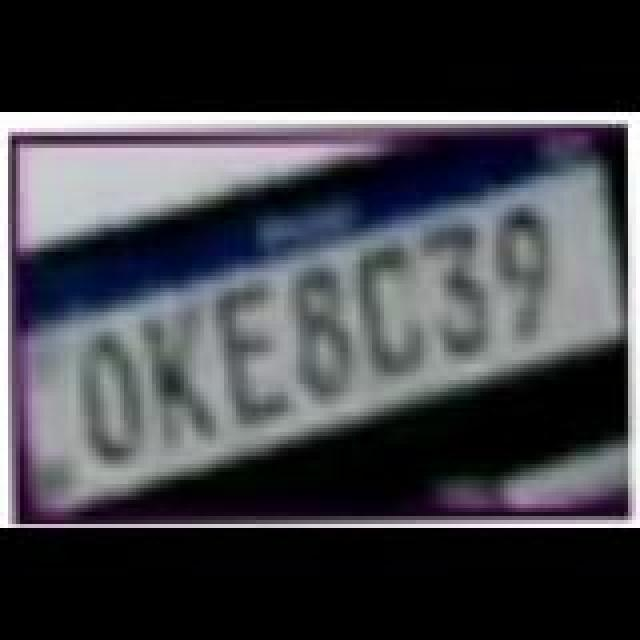3: (424, 222, 496, 362)
8: (286, 262, 362, 402)
9: (490, 204, 558, 340)
C: (356, 240, 436, 376)
E: (210, 282, 294, 422)
K: (140, 308, 220, 444)
O: (76, 332, 148, 468)
